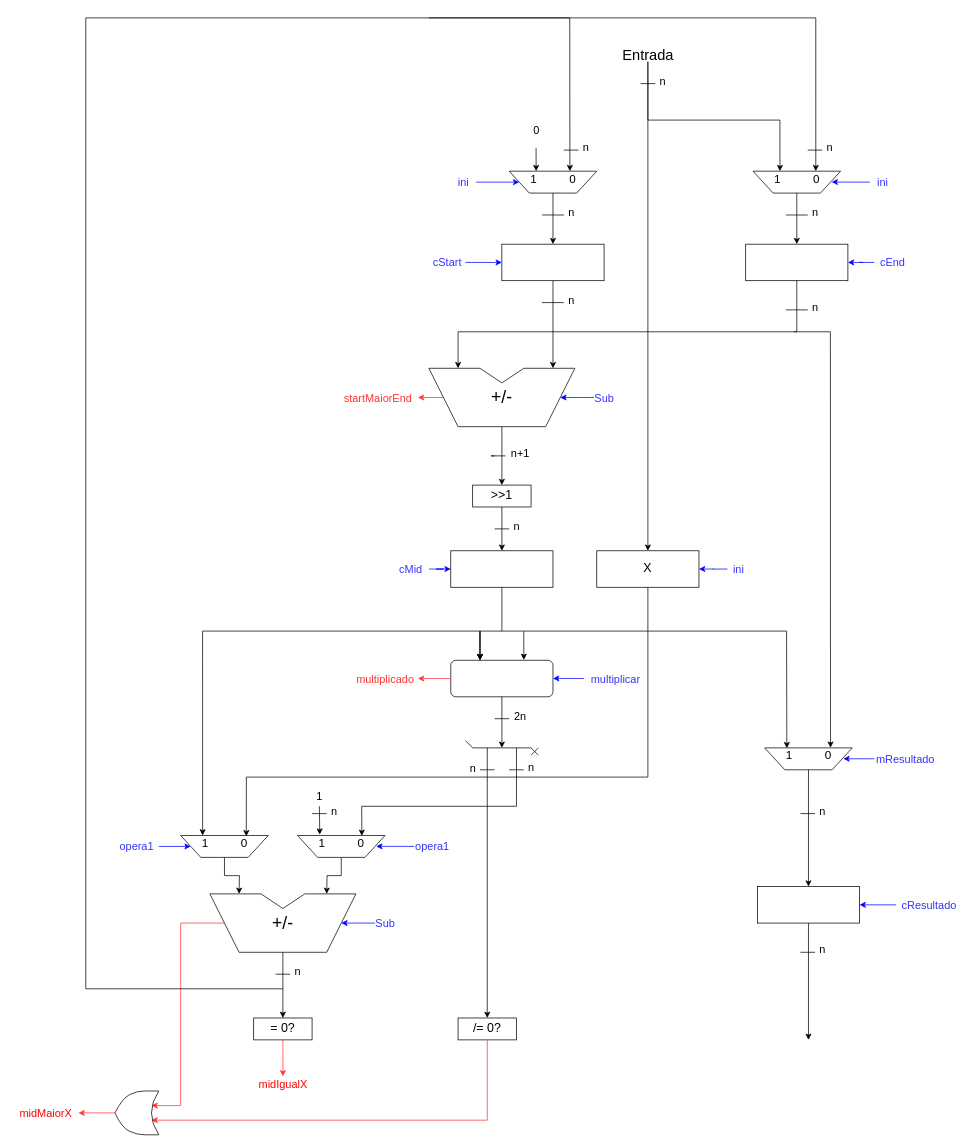
This 974x1148 diagram has some shape labels left out. The shapes that lost their labels are listed below. From the top down, each one's centre as x and y in pixels, then its label:
[552,262]: Start
[796,262]: End
[501,568]: Mid
[501,678]: Multiplier
[808,904]: Resultado
